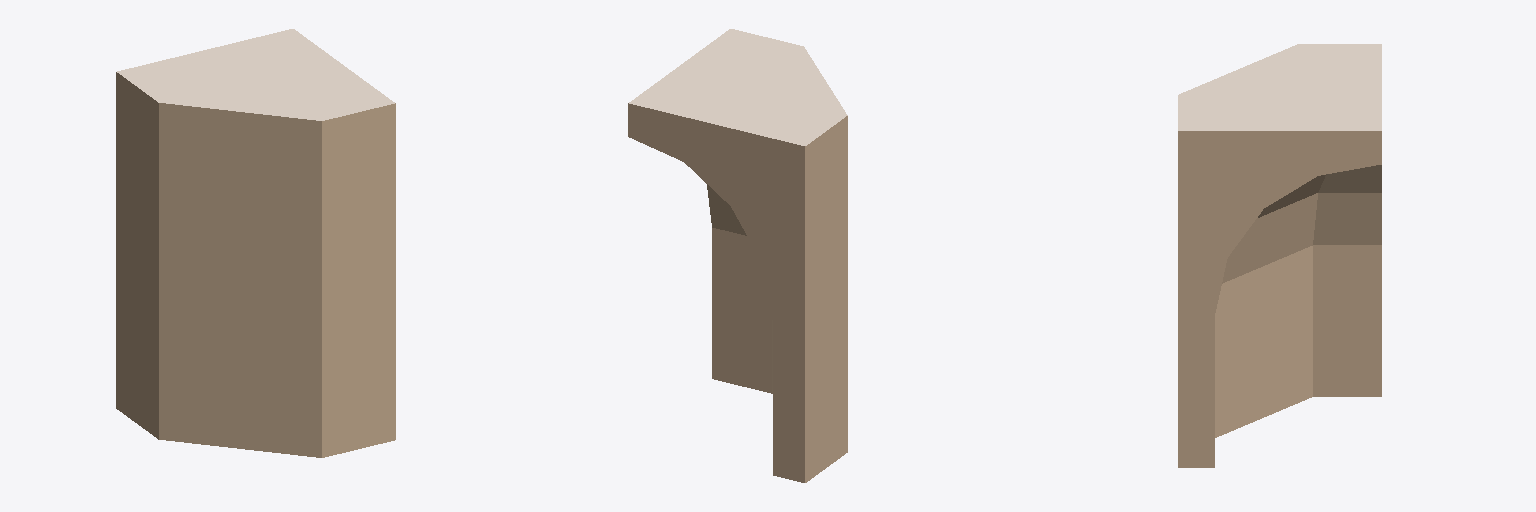
The model's file is Wall_Arch_Corner_Inner.obj.
3 renders of one model, left to right at view 1: azimuth 30°, elevation 25°; view 2: azimuth 150°, elevation 25°; view 3: azimuth 270°, elevation 25°, orthographic.
Parts seen in each view (by area): view 1: object1; view 2: object1; view 3: object1.
Boxes of the visible parts, x1,y1,x2,y2 form: object1: [116, 29, 395, 457]; object1: [628, 29, 847, 482]; object1: [1178, 44, 1381, 467].
Bounding box in the file's own units: 1.1 × 2 × 1.1.